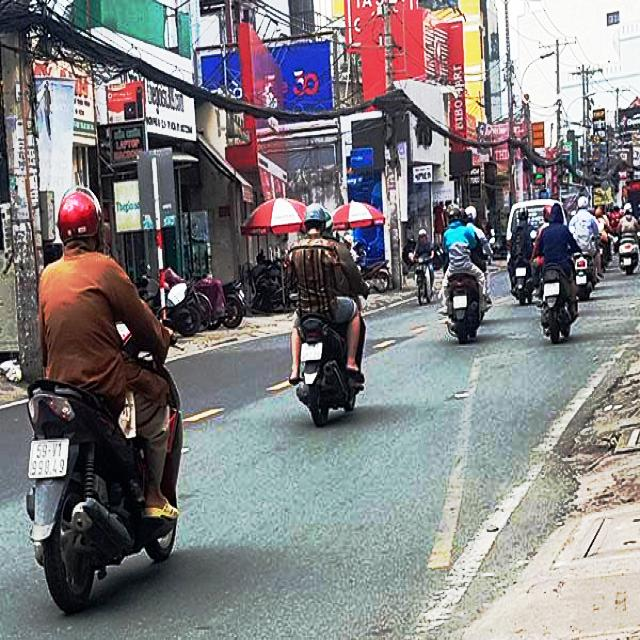license_plate: (30, 441, 69, 479), (301, 343, 324, 360), (454, 296, 467, 311), (546, 284, 560, 297), (577, 275, 587, 285), (517, 268, 527, 277), (624, 258, 632, 266)
